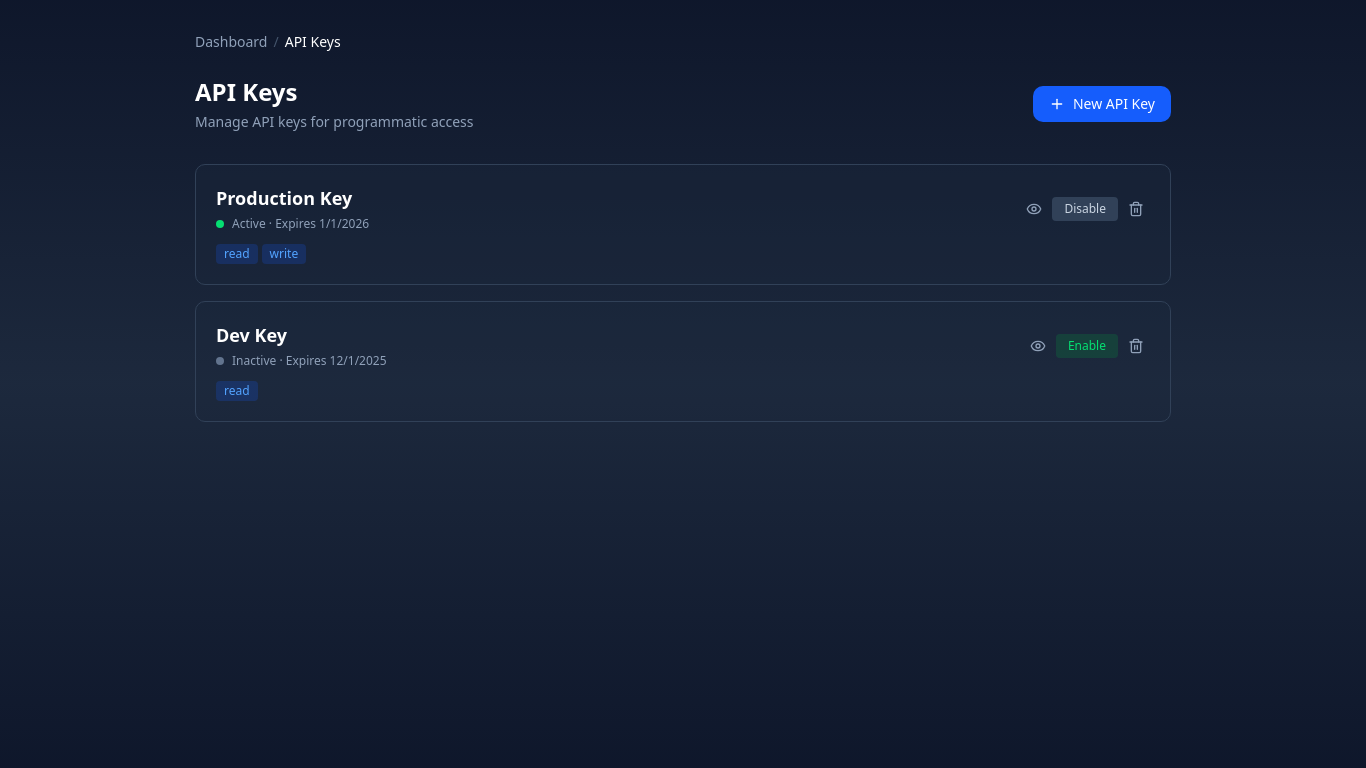
Test case: ApiKeysPage › shows create modal
Expected: the heading "Production Key" is shown, [216, 185, 369, 212]
Click the button "New API Key": (1102, 104) [1033, 86, 1171, 122]
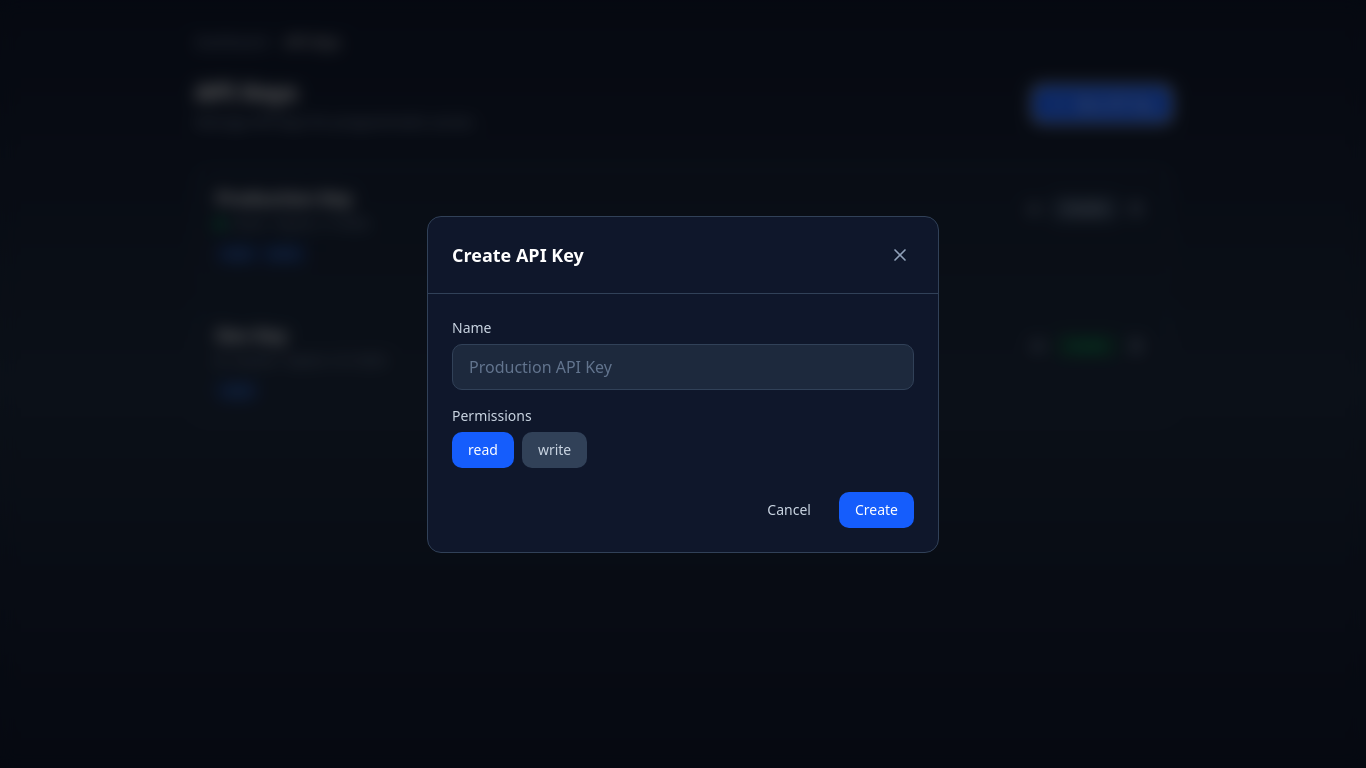
Expected: the heading "Create API Key" is shown, [452, 240, 584, 268]
Expected: the field with placeholder "Production API Key" is shown, [452, 344, 914, 390]
